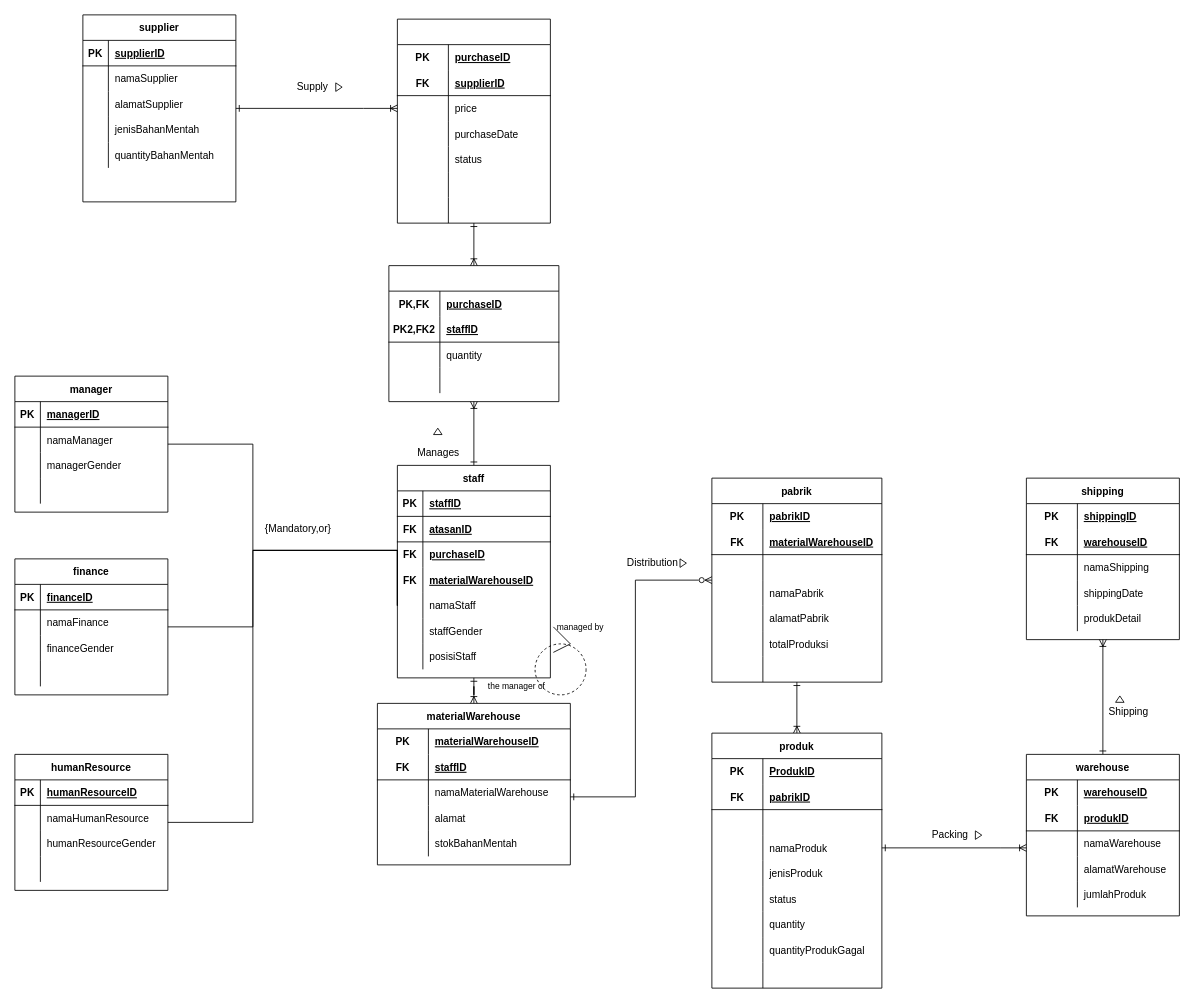
Image size: 1194x1003. Some labels were removed from this diagram. Here are the shapes that lost their labels. From the top down, the box of each, then its label:
(397, 18, 550, 223): transactionHeader
(388, 265, 559, 402): transactionDetail
